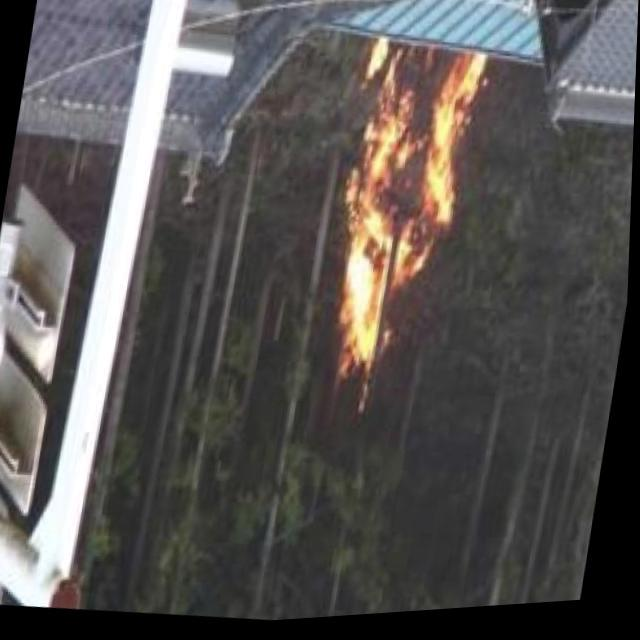fire: (300, 35, 488, 393)
